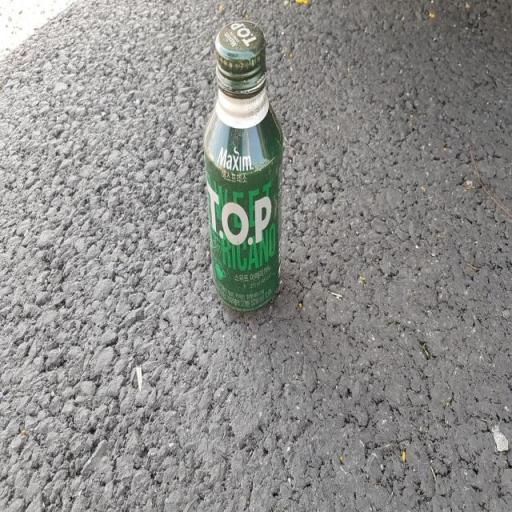metal: (194, 0, 298, 355)
